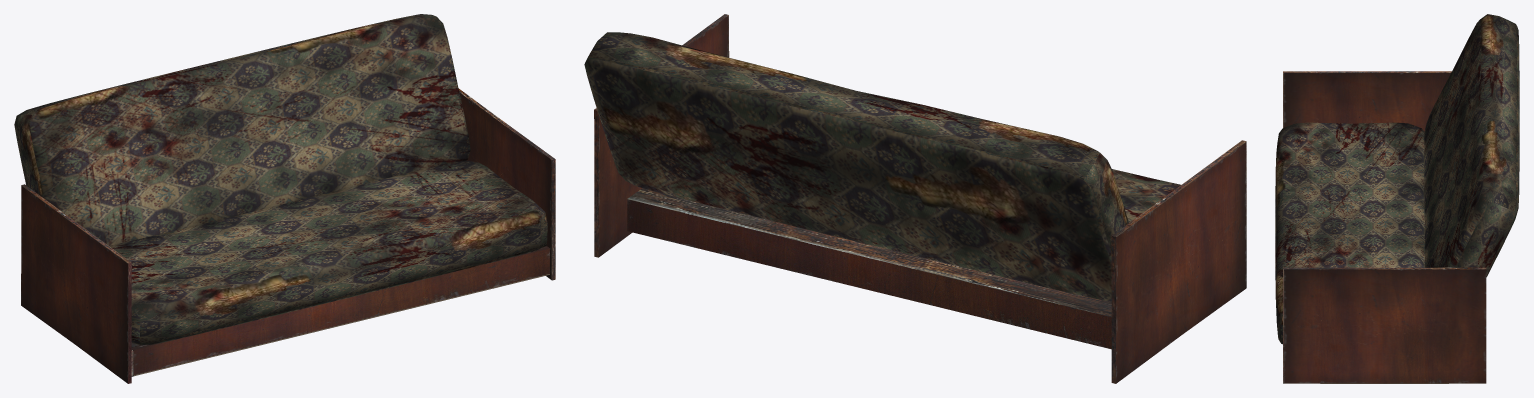
Rendered from Divan.FBX.
3 views of the same model, side by side, from view 1: azimuth 30°, elevation 25°; view 2: azimuth 150°, elevation 25°; view 3: azimuth 270°, elevation 25° (orthographic). The views are drawn at different scales.
Parts seen in each view (by area): view 1: Divan_pillow001, Divan_pillow, Divan_wood; view 2: Divan_pillow001, Divan_wood, Divan_pillow; view 3: Divan_wood, Divan_pillow, Divan_pillow001.
Part boxes in pixels (x1=…): Divan_pillow001: x1=14, y1=14, x2=470, y2=245; Divan_pillow: x1=109, y1=161, x2=547, y2=345; Divan_wood: x1=21, y1=88, x2=555, y2=383; Divan_pillow001: x1=584, y1=32, x2=1128, y2=301; Divan_wood: x1=594, y1=14, x2=1246, y2=383; Divan_pillow: x1=1112, y1=169, x2=1180, y2=222; Divan_wood: x1=1283, y1=71, x2=1486, y2=383; Divan_pillow: x1=1275, y1=122, x2=1424, y2=344; Divan_pillow001: x1=1424, y1=14, x2=1519, y2=277.
Size of the model in its own units: 2.05 by 0.8747 by 1.06.
